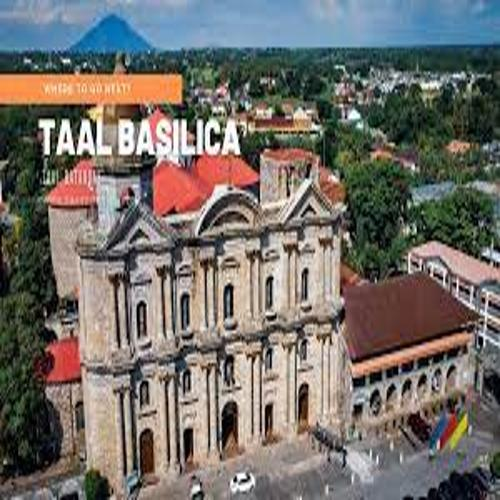Taal Basilica Church: (50, 57, 358, 487)
